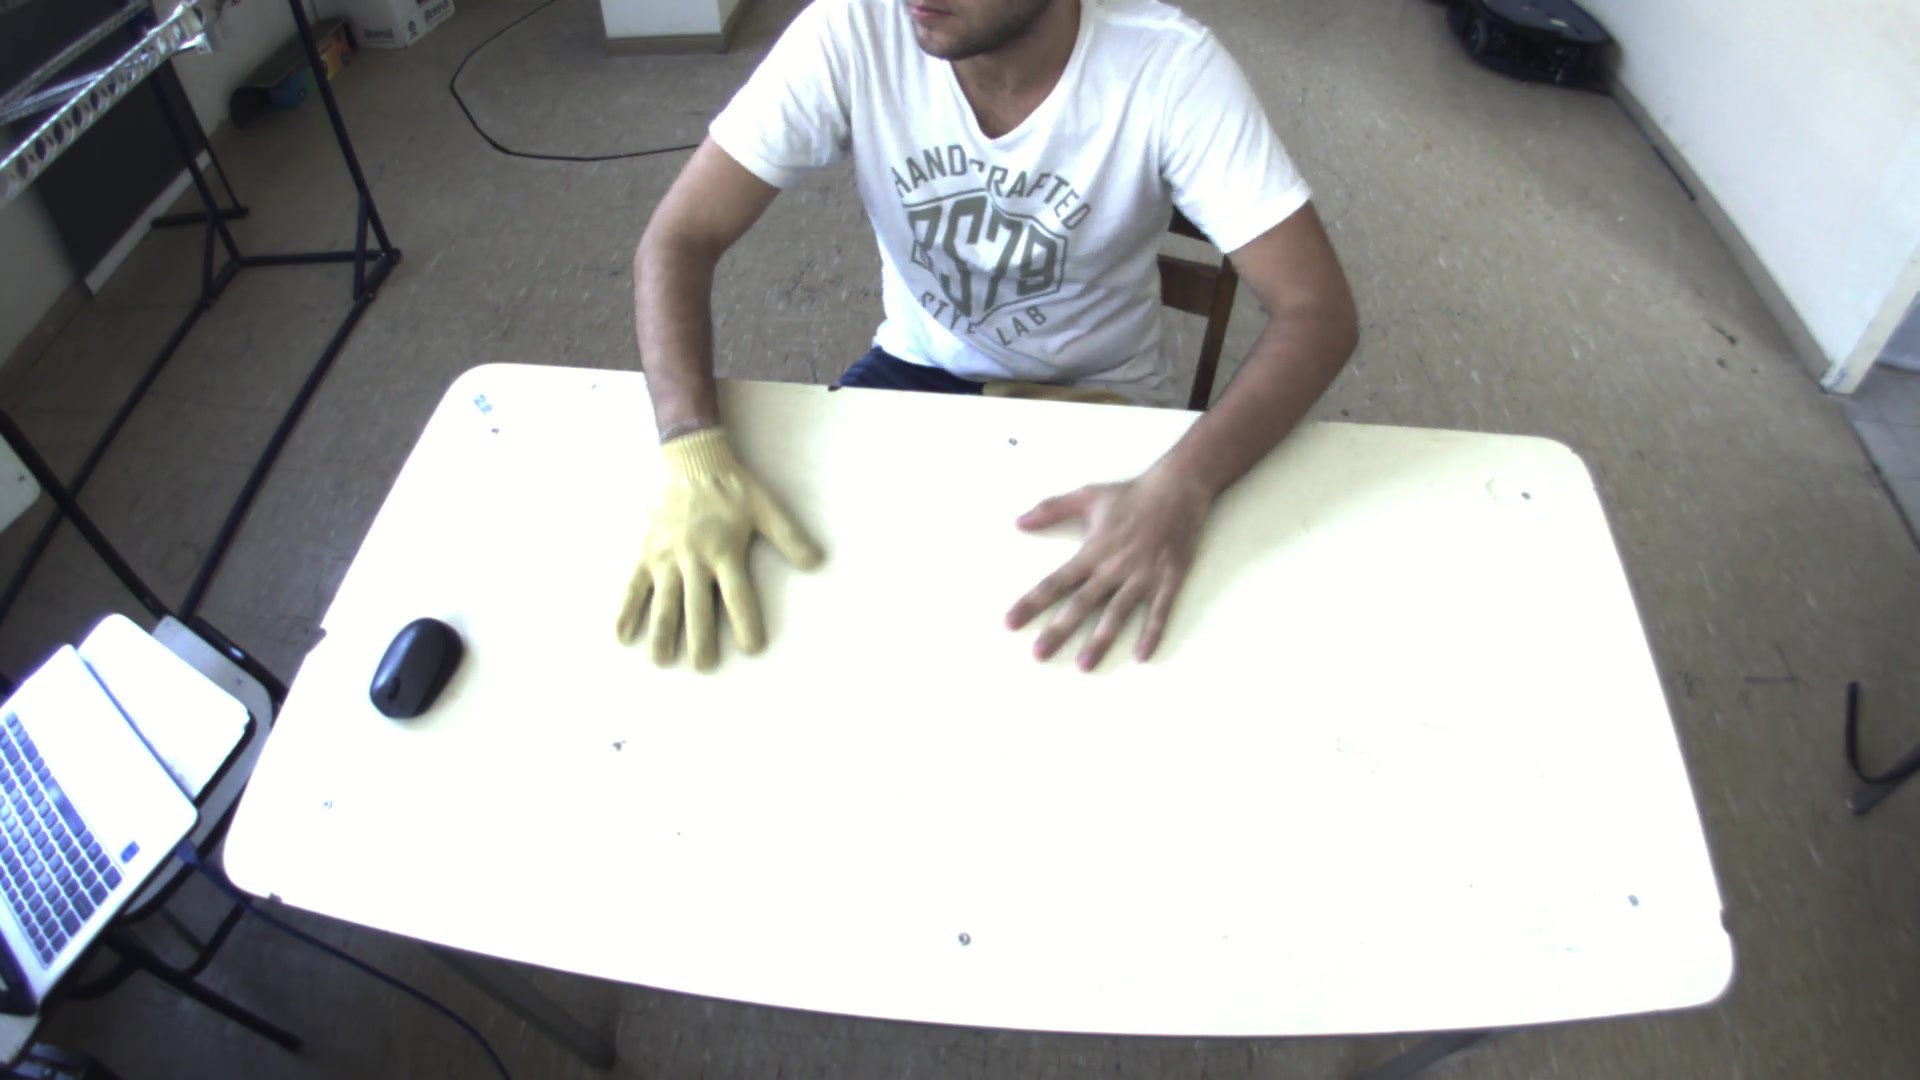hand: (601, 411, 833, 675), (994, 458, 1229, 678)
